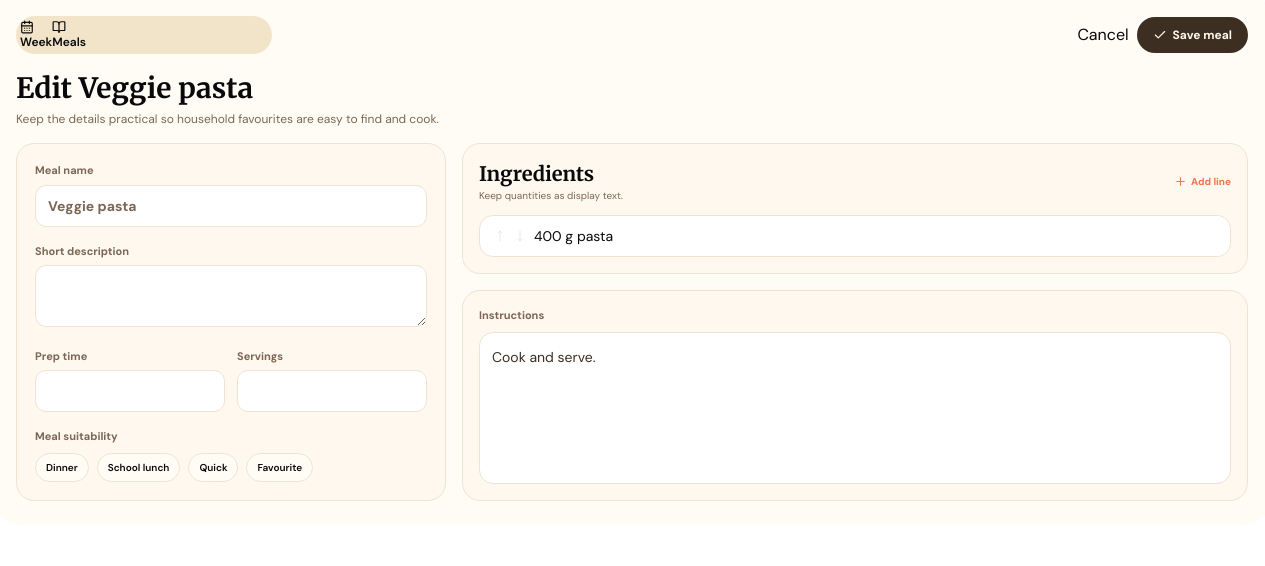
Test: recipe routes › keeps the edit form visible when updating fails
The width and height of the screenshot is (1265, 566).
Click the button "Save meal": click(1192, 35) [1137,17,1248,53]
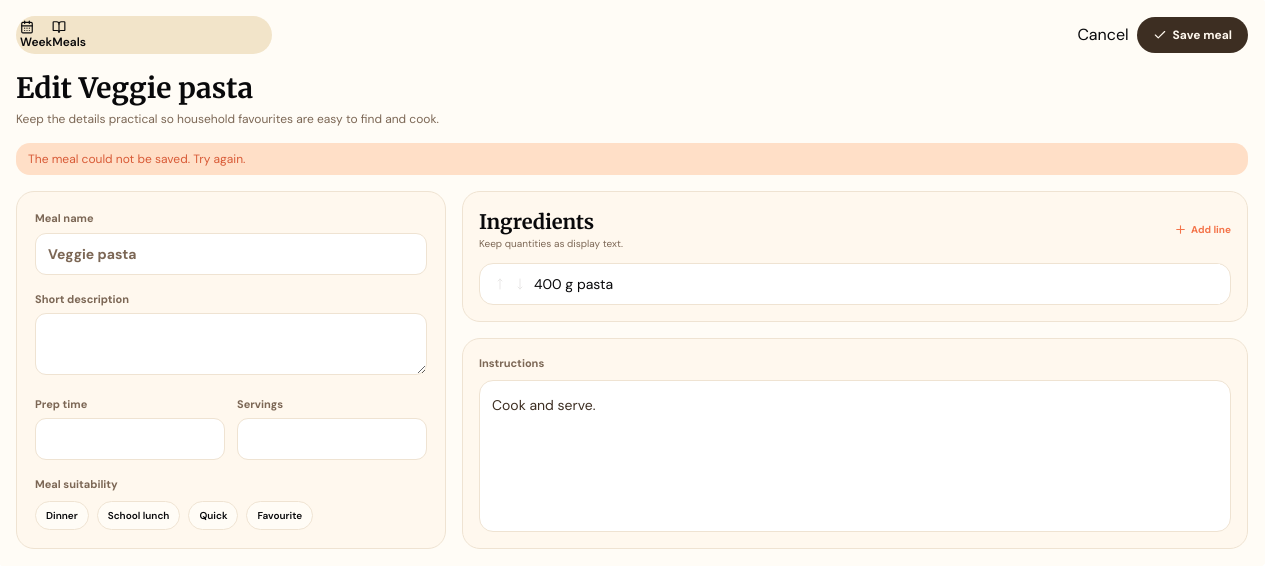
Expected: the field showing "Veggie pasta" is shown, [35,233,427,275]
Expected: the message shows "The meal could not be saved.", [28,151,246,167]
